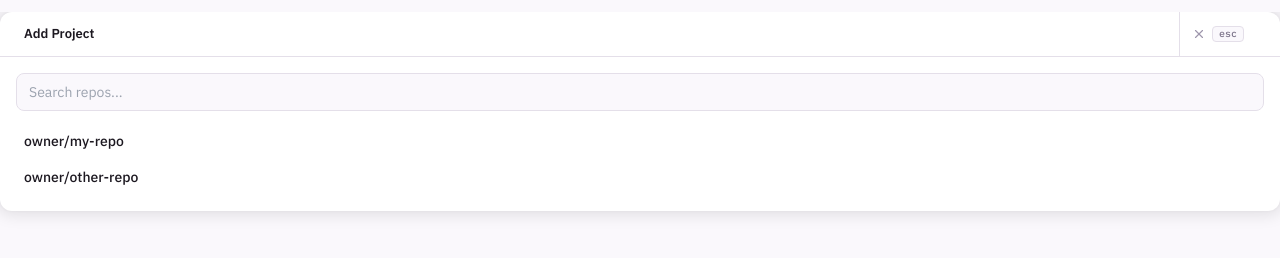
Test case: RepoSearch › shows error when addProject fails
This screenshot has width=1280, height=258.
Click the button "owner/my-repo". click: (74, 141)
box: top-left (16, 123), bottom-right (1264, 159)
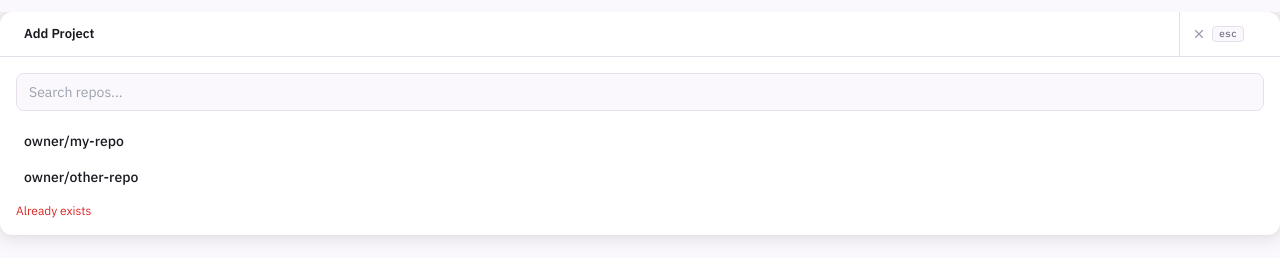
Result: the text "Already exists" is shown at top-left (16, 203), bottom-right (91, 218)
